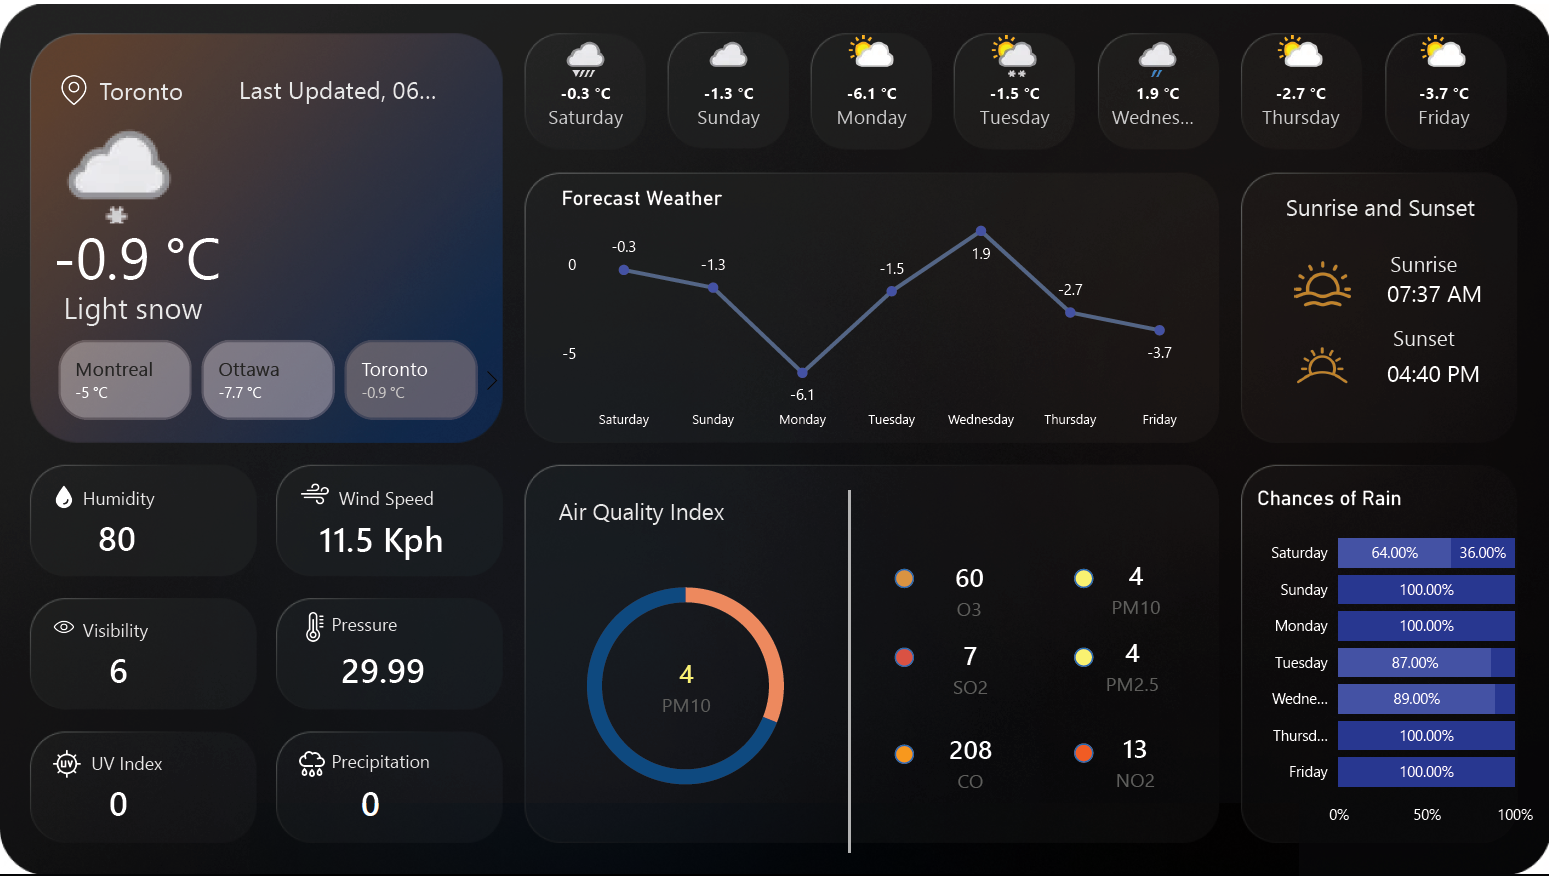

Layout of this report page (visuals, bound fields, positions):
{"tool":"powerbi","page":{"name":"Page 1","canvas":[1280,720],"ordinal":0},"visuals":[{"type":"advancedSlicerVisual","fields":{"Values":["Locations.location.name"]},"box":[24,272,398,76],"z":0},{"type":"shape","box":[38,162,156,92],"z":1000},{"type":"shape","box":[50,228,240,44],"z":2000},{"type":"shape","box":[80,50,180,42],"z":3000},{"type":"shape","box":[196,54,190,30],"z":4000},{"type":"image","box":[50,58,24,26],"z":5000},{"type":"cardVisual","fields":{"Data":["Min(Current.current.condition.icon)"]},"box":[10,68,160,130],"z":6000},{"type":"image","box":[43.6,396.4,18.6,20.7],"z":7000},{"type":"shape","box":[67.1,392.1,96.4,30],"z":8000},{"type":"image","box":[43.6,500.7,18.6,25.7],"z":9000},{"type":"shape","box":[67.1,500.7,96.4,30],"z":10000},{"type":"image","box":[43.6,613.6,23.6,25.7],"z":11000},{"type":"shape","box":[73.6,611.4,96.4,30],"z":12000},{"type":"image","box":[248.6,392.1,23.6,25],"z":13000},{"type":"shape","box":[277.9,392.1,96.4,30],"z":14000},{"type":"image","box":[248.6,500.7,23.6,25.7],"z":15000},{"type":"shape","box":[272.1,496.4,96.4,30],"z":16000},{"type":"image","box":[243.6,613.6,28.6,25.7],"z":17000},{"type":"shape","box":[272.1,609.3,96.4,30],"z":18000},{"type":"cardVisual","fields":{"Data":["Sum(Current.current.humidity)"]},"box":[53,407,100,62],"z":19000},{"type":"cardVisual","fields":{"Data":["_Measures.Wind_Speed"]},"box":[235,396.7,185,85],"z":20000},{"type":"cardVisual","fields":{"Data":["Sum(Current.current.vis_km)"]},"box":[62,516,100,62],"z":21000},{"type":"cardVisual","fields":{"Data":["Sum(Current.current.uv)"]},"box":[62,626,100,62],"z":22000},{"type":"cardVisual","fields":{"Data":["Sum(Current.current.pressure_in)"]},"box":[253,516,134,62],"z":23000},{"type":"cardVisual","fields":{"Data":["Sum(Current.current.precip_in)"]},"box":[270,626,100,62],"z":24000},{"type":"advancedSlicerVisual","fields":{"Values":["Forcast_Day.Day_Name"]},"box":[400,3.3,880,136.7],"z":25000},{"type":"lineChart","title":"Forecast Weather","fields":{"Category":["Forcast_Day.Day_Name"],"Y":["Sum(Forcast_Day.forecast.forecastday.day.avgtemp_c)"]},"box":[458.6,150,532.9,210],"z":26000},{"type":"shape","box":[1058.6,150,184.3,34.3],"z":27000},{"type":"shape","box":[1142,218,111,42],"z":28000},{"type":"shape","box":[1142,284,111,42],"z":29000},{"type":"shape","box":[1134,197,83,34],"z":30000},{"type":"shape","box":[1134,258,83,34],"z":31000},{"type":"image","box":[1059,271,65,55],"z":32000},{"type":"image","box":[1059,208,65,46],"z":33000},{"type":"hundredPercentStackedBarChart","title":"Chances of Rain","fields":{"Y":["Sum(Forcast_Day.forecast.forecastday.day.daily_chance_of_rain)","_Measures.Left_value_rain"],"Category":["Forcast_Day.Day_Name"]},"box":[1032.9,397.1,237.1,290],"z":34000},{"type":"shape","box":[458.6,401.4,184.3,34.3],"z":35000},{"type":"cardVisual","fields":{"Data":["Sum(Current.current.air_quality.pm10)"]},"box":[887.1,435.7,102.9,91.4],"z":36000},{"type":"cardVisual","fields":{"Data":["Sum(Current.current.air_quality.o3)"]},"box":[750,438.6,101.4,88.6],"z":37000},{"type":"cardVisual","fields":{"Data":["Sum(Current.current.air_quality.so2)"]},"box":[744.3,502.9,115.7,88.6],"z":38000},{"type":"cardVisual","fields":{"Data":["Sum(Current.current.air_quality.pm2_5)"]},"box":[880,502.9,110,85.7],"z":39000},{"type":"cardVisual","fields":{"Data":["Sum(Current.current.air_quality.co)"]},"box":[738.6,581.4,125.7,88.6],"z":40000},{"type":"cardVisual","fields":{"Data":["Sum(Current.current.air_quality.no2)"]},"box":[880,580,115.7,88.6],"z":41000},{"type":"shape","box":[738.6,465.7,15.7,15.7],"z":42000},{"type":"shape","box":[738.6,531.4,15.7,15.7],"z":43000},{"type":"shape","box":[738.6,611.4,15.7,15.7],"z":44000},{"type":"shape","box":[887.1,465.7,15.7,15.7],"z":45000},{"type":"shape","box":[887.1,531.4,15.7,15.7],"z":46000},{"type":"shape","box":[887.1,610,15.7,15.7],"z":47000},{"type":"shape","box":[655.7,401.4,91.4,298.6],"z":48000},{"type":"cardVisual","fields":{"Data":["Sum(Current.current.air_quality.pm10)"]},"box":[507.1,514.3,120,97.1],"z":49000},{"type":"donutChart","fields":{"Y":["Sum(Current.current.air_quality.pm10)","_Measures.Left_value_PM10"]},"box":[447.1,455.7,238.6,212.9],"z":50000}]}

Visuals, with their boxes in screenshot pixels (x1, y1, x2, y2), scaled from the page's 1280x720 canvas onto the 1549x877 screenshot:
advancedSlicerVisual - Locations.location.name: pyautogui.locateOnScreen(29, 331, 511, 424)
shape: pyautogui.locateOnScreen(46, 197, 235, 309)
shape: pyautogui.locateOnScreen(61, 278, 351, 331)
shape: pyautogui.locateOnScreen(97, 61, 315, 112)
shape: pyautogui.locateOnScreen(237, 66, 467, 102)
image: pyautogui.locateOnScreen(61, 71, 90, 102)
cardVisual - Min(Current.current.condition.icon): pyautogui.locateOnScreen(12, 83, 206, 241)
image: pyautogui.locateOnScreen(53, 483, 75, 508)
shape: pyautogui.locateOnScreen(81, 478, 198, 514)
image: pyautogui.locateOnScreen(53, 610, 75, 641)
shape: pyautogui.locateOnScreen(81, 610, 198, 646)
image: pyautogui.locateOnScreen(53, 747, 81, 779)
shape: pyautogui.locateOnScreen(89, 745, 206, 781)
image: pyautogui.locateOnScreen(301, 478, 329, 508)
shape: pyautogui.locateOnScreen(336, 478, 453, 514)
image: pyautogui.locateOnScreen(301, 610, 329, 641)
shape: pyautogui.locateOnScreen(329, 605, 446, 641)
image: pyautogui.locateOnScreen(295, 747, 329, 779)
shape: pyautogui.locateOnScreen(329, 742, 446, 779)
cardVisual - Sum(Current.current.humidity): pyautogui.locateOnScreen(64, 496, 185, 571)
cardVisual - _Measures.Wind_Speed: pyautogui.locateOnScreen(284, 483, 508, 587)
cardVisual - Sum(Current.current.vis_km): pyautogui.locateOnScreen(75, 629, 196, 704)
cardVisual - Sum(Current.current.uv): pyautogui.locateOnScreen(75, 763, 196, 838)
cardVisual - Sum(Current.current.pressure_in): pyautogui.locateOnScreen(306, 629, 468, 704)
cardVisual - Sum(Current.current.precip_in): pyautogui.locateOnScreen(327, 763, 448, 838)
advancedSlicerVisual - Forcast_Day.Day_Name: pyautogui.locateOnScreen(484, 4, 1548, 171)
"Forecast Weather" lineChart: pyautogui.locateOnScreen(555, 183, 1200, 438)
shape: pyautogui.locateOnScreen(1281, 183, 1504, 224)
shape: pyautogui.locateOnScreen(1382, 266, 1516, 317)
shape: pyautogui.locateOnScreen(1382, 346, 1516, 397)
shape: pyautogui.locateOnScreen(1372, 240, 1473, 281)
shape: pyautogui.locateOnScreen(1372, 314, 1473, 356)
image: pyautogui.locateOnScreen(1282, 330, 1360, 397)
image: pyautogui.locateOnScreen(1282, 253, 1360, 309)
"Chances of Rain" hundredPercentStackedBarChart: pyautogui.locateOnScreen(1250, 484, 1537, 837)
shape: pyautogui.locateOnScreen(555, 489, 778, 531)
cardVisual - Sum(Current.current.air_quality.pm10): pyautogui.locateOnScreen(1074, 531, 1198, 642)
cardVisual - Sum(Current.current.air_quality.o3): pyautogui.locateOnScreen(908, 534, 1030, 642)
cardVisual - Sum(Current.current.air_quality.so2): pyautogui.locateOnScreen(901, 613, 1041, 720)
cardVisual - Sum(Current.current.air_quality.pm2_5): pyautogui.locateOnScreen(1065, 613, 1198, 717)
cardVisual - Sum(Current.current.air_quality.co): pyautogui.locateOnScreen(894, 708, 1046, 816)
cardVisual - Sum(Current.current.air_quality.no2): pyautogui.locateOnScreen(1065, 706, 1205, 814)
shape: pyautogui.locateOnScreen(894, 567, 913, 586)
shape: pyautogui.locateOnScreen(894, 647, 913, 666)
shape: pyautogui.locateOnScreen(894, 745, 913, 764)
shape: pyautogui.locateOnScreen(1074, 567, 1093, 586)
shape: pyautogui.locateOnScreen(1074, 647, 1093, 666)
shape: pyautogui.locateOnScreen(1074, 743, 1093, 762)
shape: pyautogui.locateOnScreen(793, 489, 904, 853)
cardVisual - Sum(Current.current.air_quality.pm10): pyautogui.locateOnScreen(614, 626, 759, 745)
donutChart - Sum(Current.current.air_quality.pm10) x _Measures.Left_value_PM10: pyautogui.locateOnScreen(541, 555, 830, 814)
